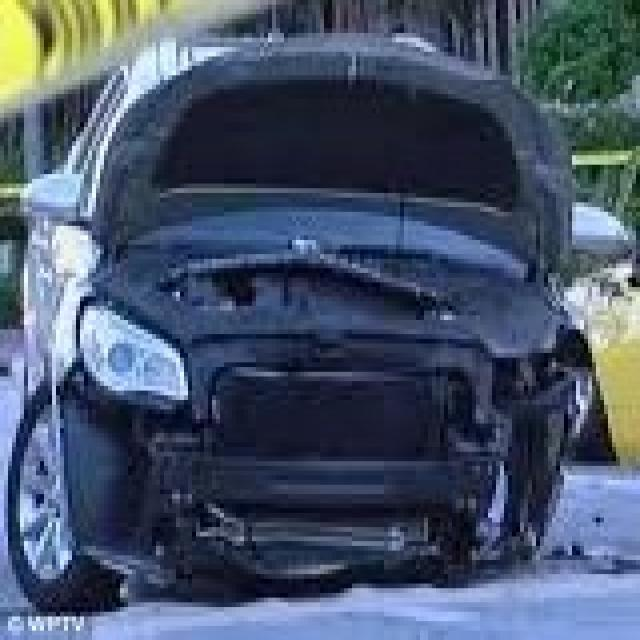severe: (56, 217, 604, 598)
